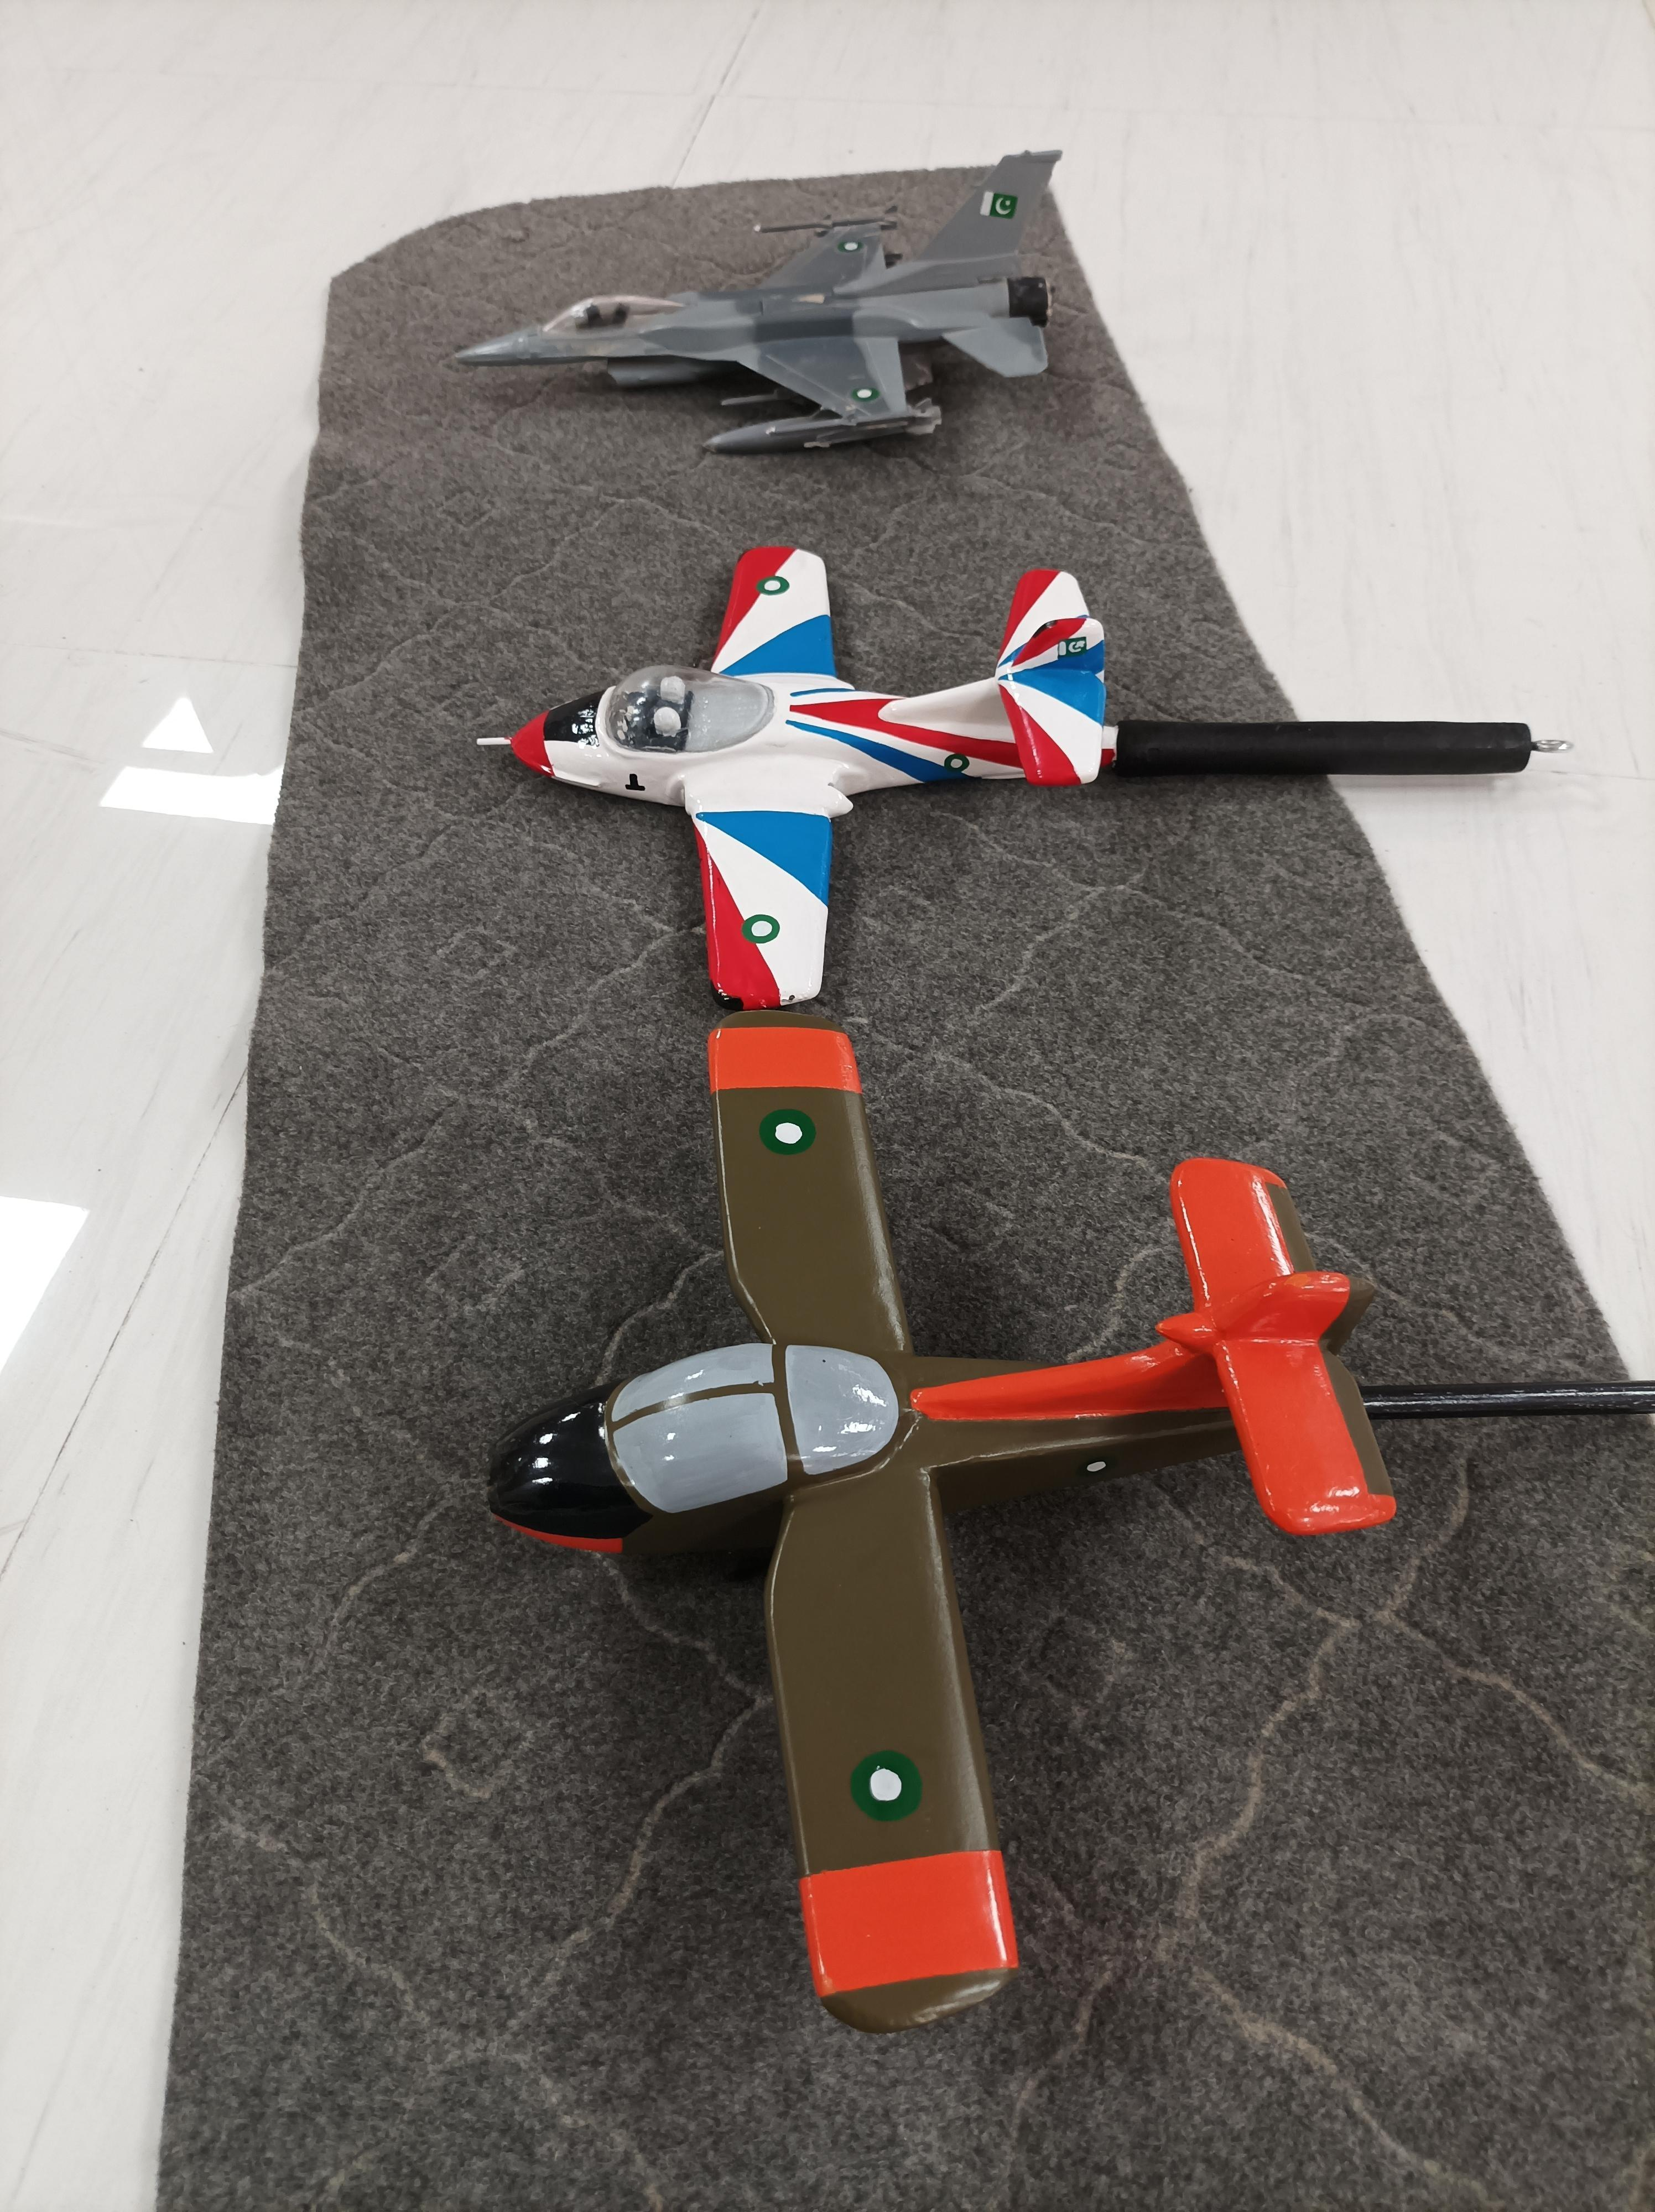Airplane: (455, 1018, 1410, 2043), (476, 523, 1127, 1023), (469, 122, 1071, 481)
